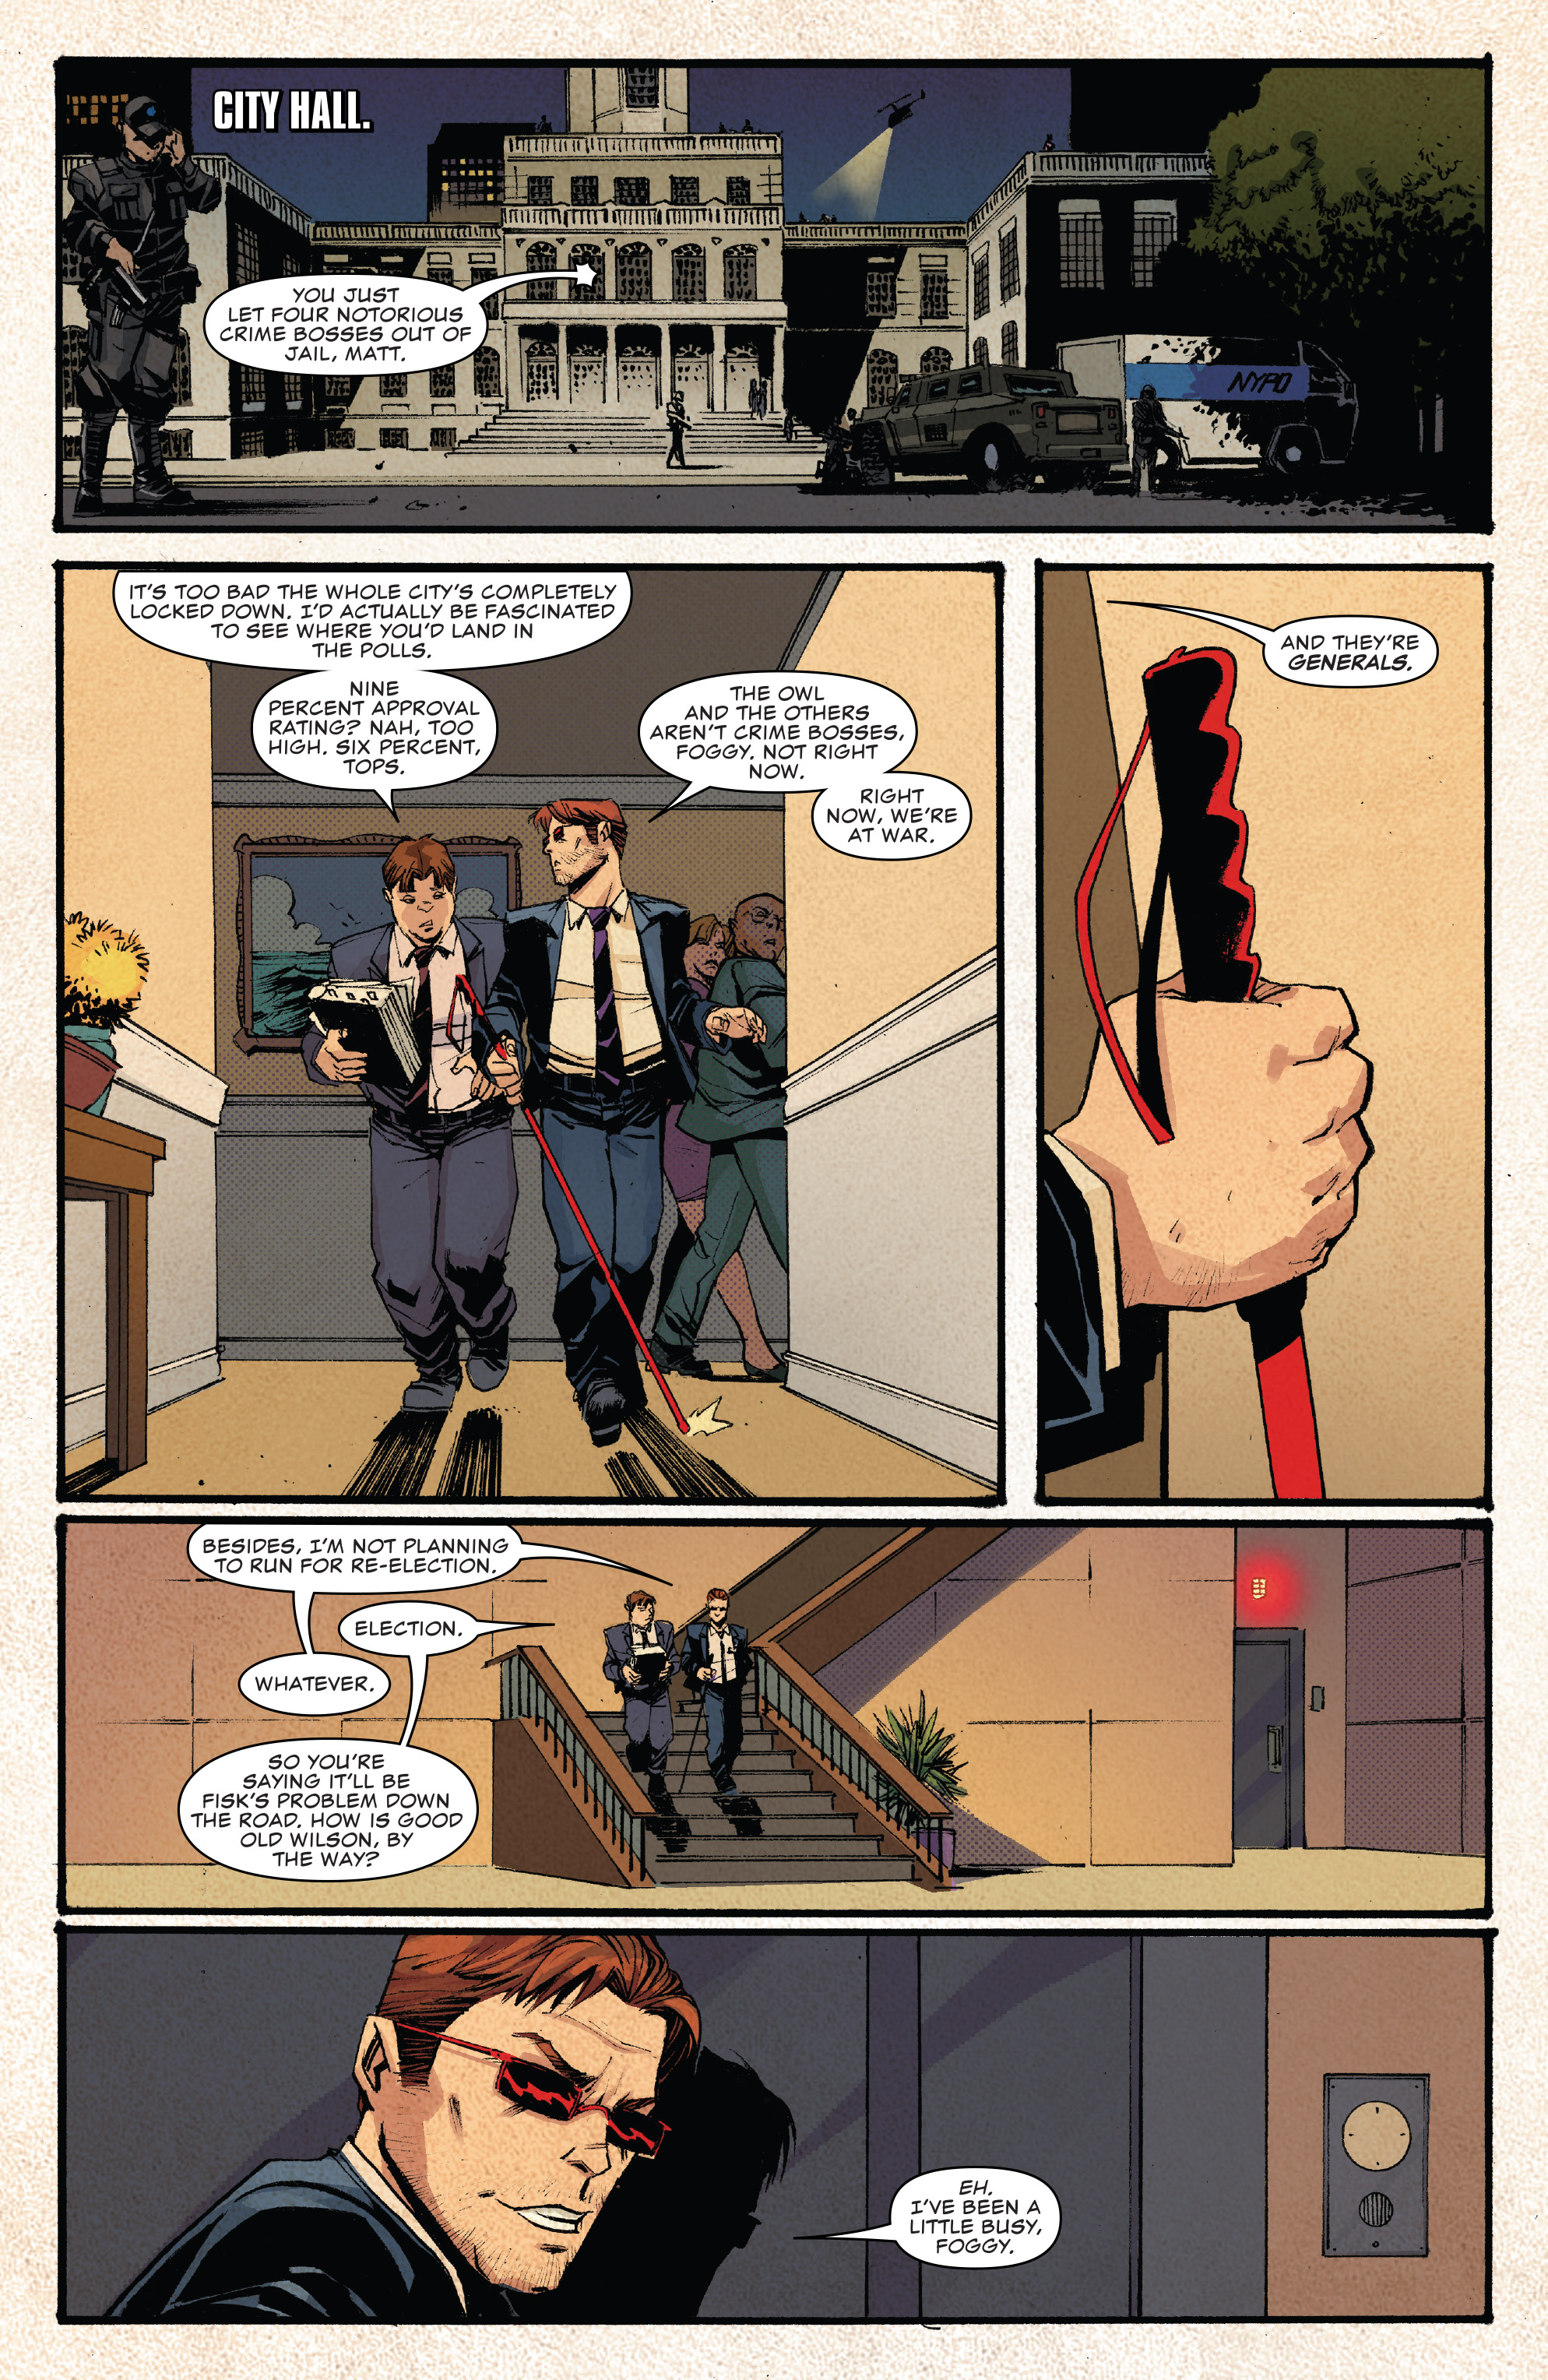Baloon: (113, 548, 654, 666), (179, 1742, 491, 1872), (201, 262, 498, 382), (634, 666, 905, 781), (1146, 595, 1439, 696), (250, 678, 504, 793), (192, 1516, 530, 1598), (839, 2161, 1064, 2269), (810, 770, 972, 874), (338, 1605, 537, 1653), (241, 1657, 394, 1712)
Vignetta: (55, 559, 1005, 1504), (52, 54, 1491, 533), (55, 1516, 1491, 1917), (64, 1927, 1494, 2318), (1038, 566, 1494, 1509)
